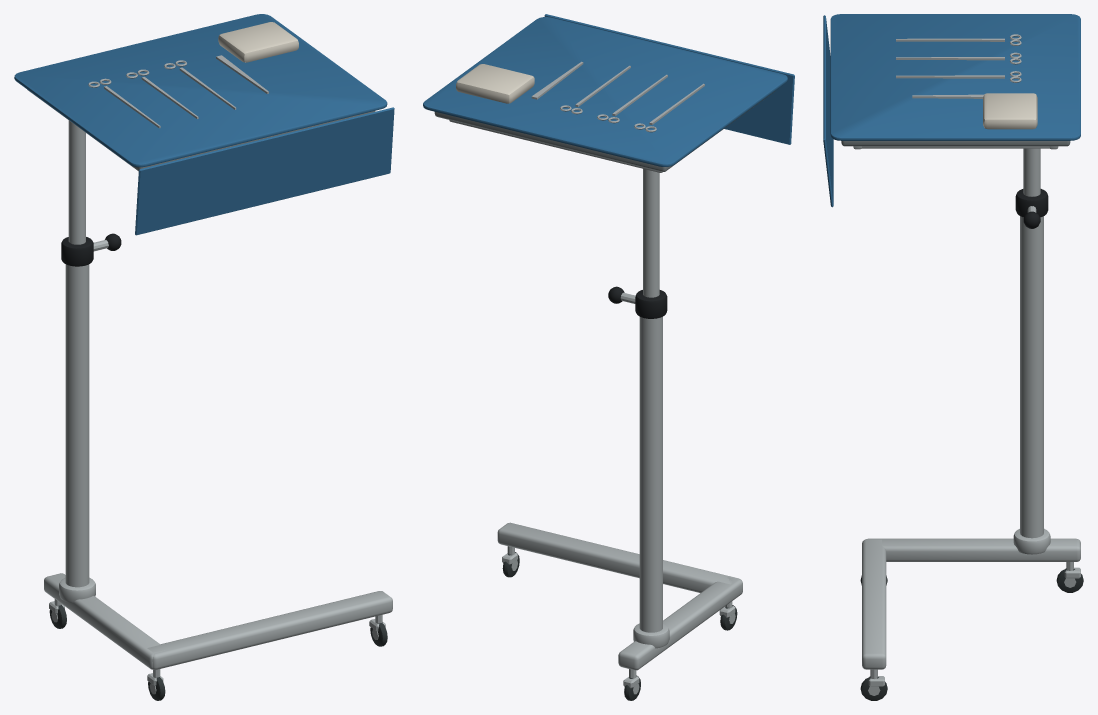
File: sc-mayo-stand.glb
3 renders of one model, left to right at view 1: azimuth 30°, elevation 25°; view 2: azimuth 150°, elevation 25°; view 3: azimuth 270°, elevation 25°, orthographic. The views are drawn at different scales.
Visible parts, largest first — view 1: sc-mayo-stand; view 2: sc-mayo-stand; view 3: sc-mayo-stand.
Boxes of the visible parts, x1,y1,x2,y2 form: sc-mayo-stand: (14, 14, 394, 700); sc-mayo-stand: (423, 14, 794, 700); sc-mayo-stand: (823, 14, 1083, 700).
Size of the model in its own units: 0.58 by 1.16 by 0.4786.
